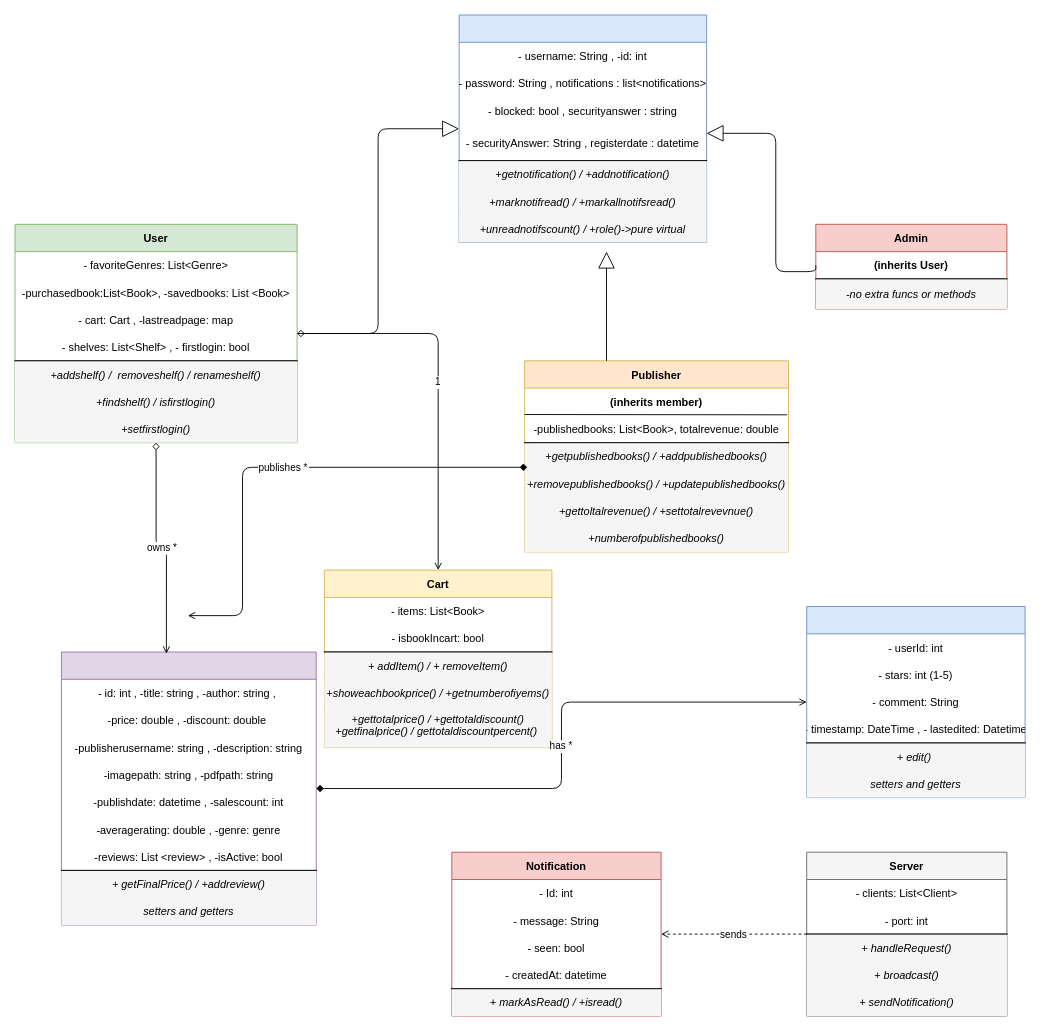
Image size: 1042x1031. Some labels were removed from this diagram. Here are the shapes that lost their labels. From the top down, the box of each, then its label:
(458, 14, 707, 243): Member
(806, 606, 1025, 798): Review
(61, 651, 316, 925): Book
